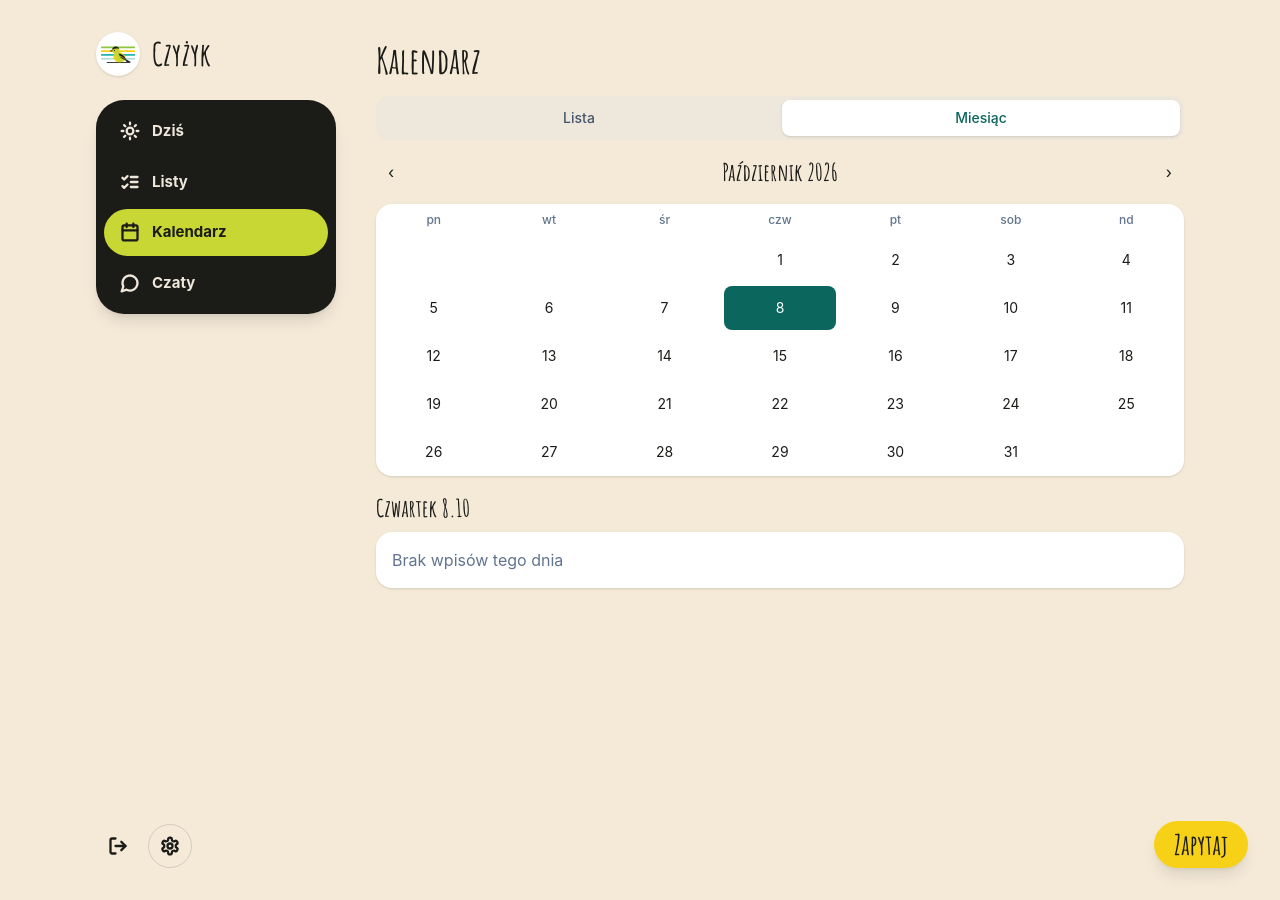
Test: Zapytaj › w widoku miesiąca pyta o ten miesiąc i pokazuje odpowiedź
Click the button "Zapytaj".
click(1201, 844)  # box [1154,821,1248,868]
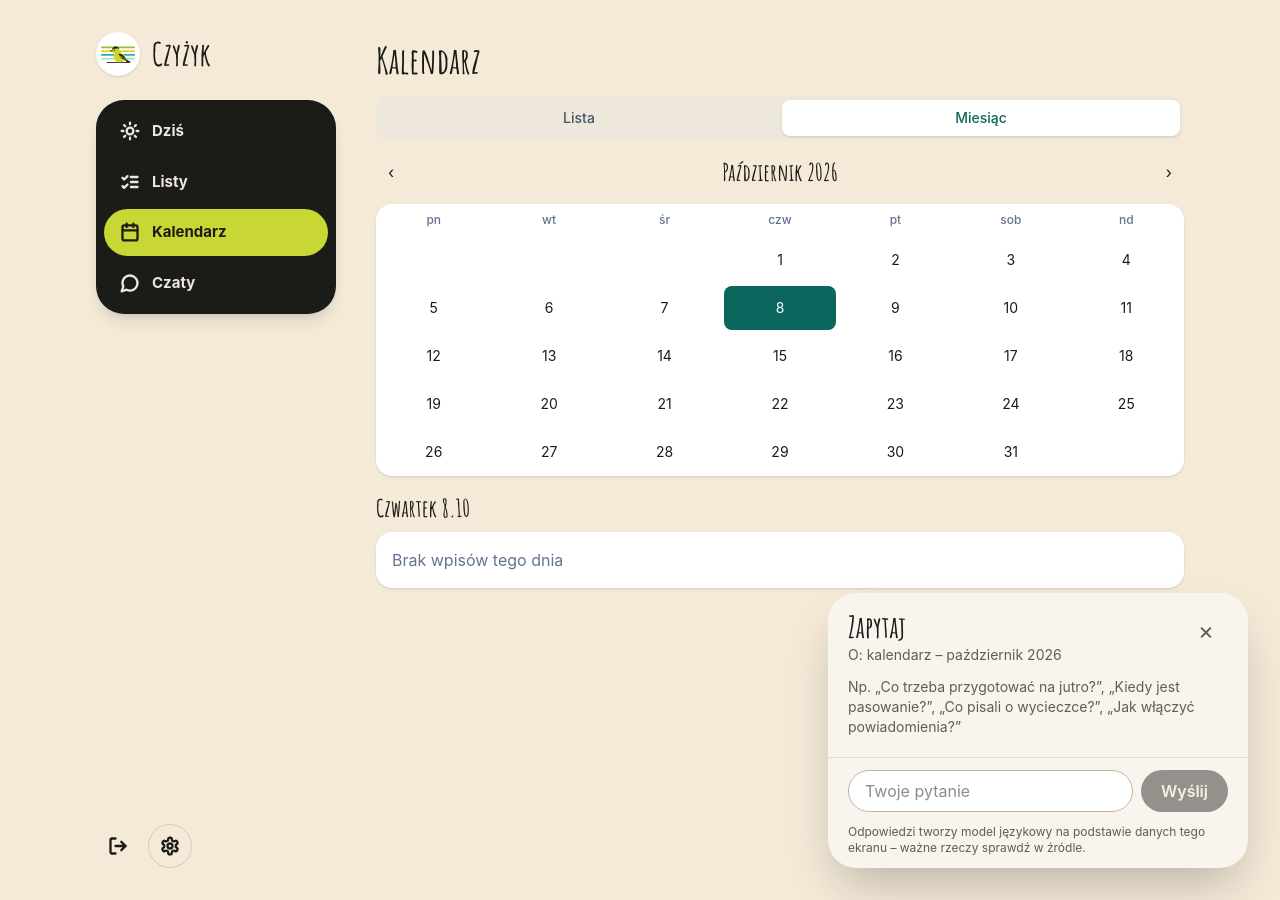
Now the dialog named "Zapytaj asystenta" shows "O: kalendarz – październik 2026", box [828,593,1248,868]
Type "kiedy jest pasowanie?" into the field labelled "Twoje pytanie".
click(990, 791); type("kiedy jest pasowanie?")  # box [848,770,1133,812]
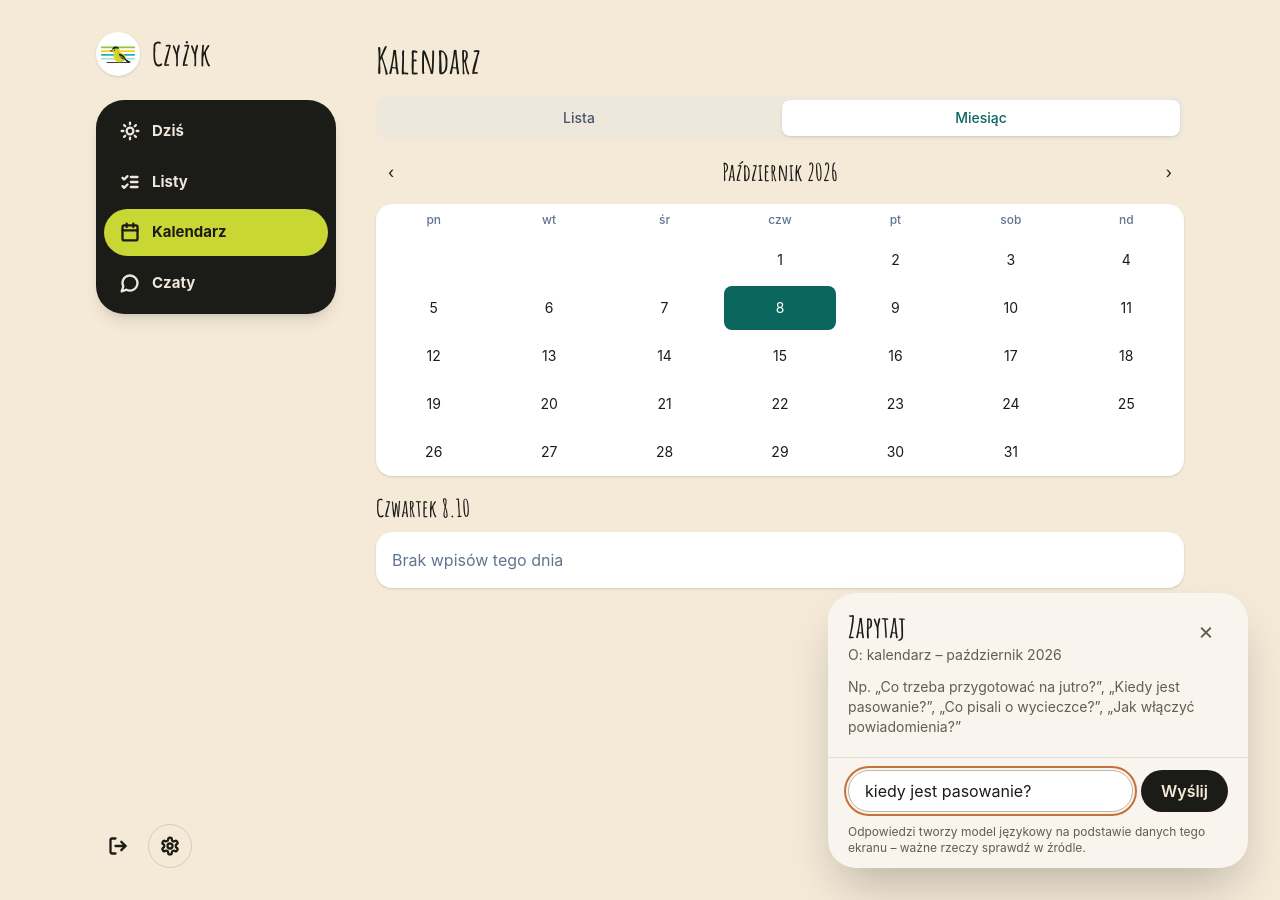
Click the button "Wyślij".
click(1184, 791)  # box [1141,770,1228,812]
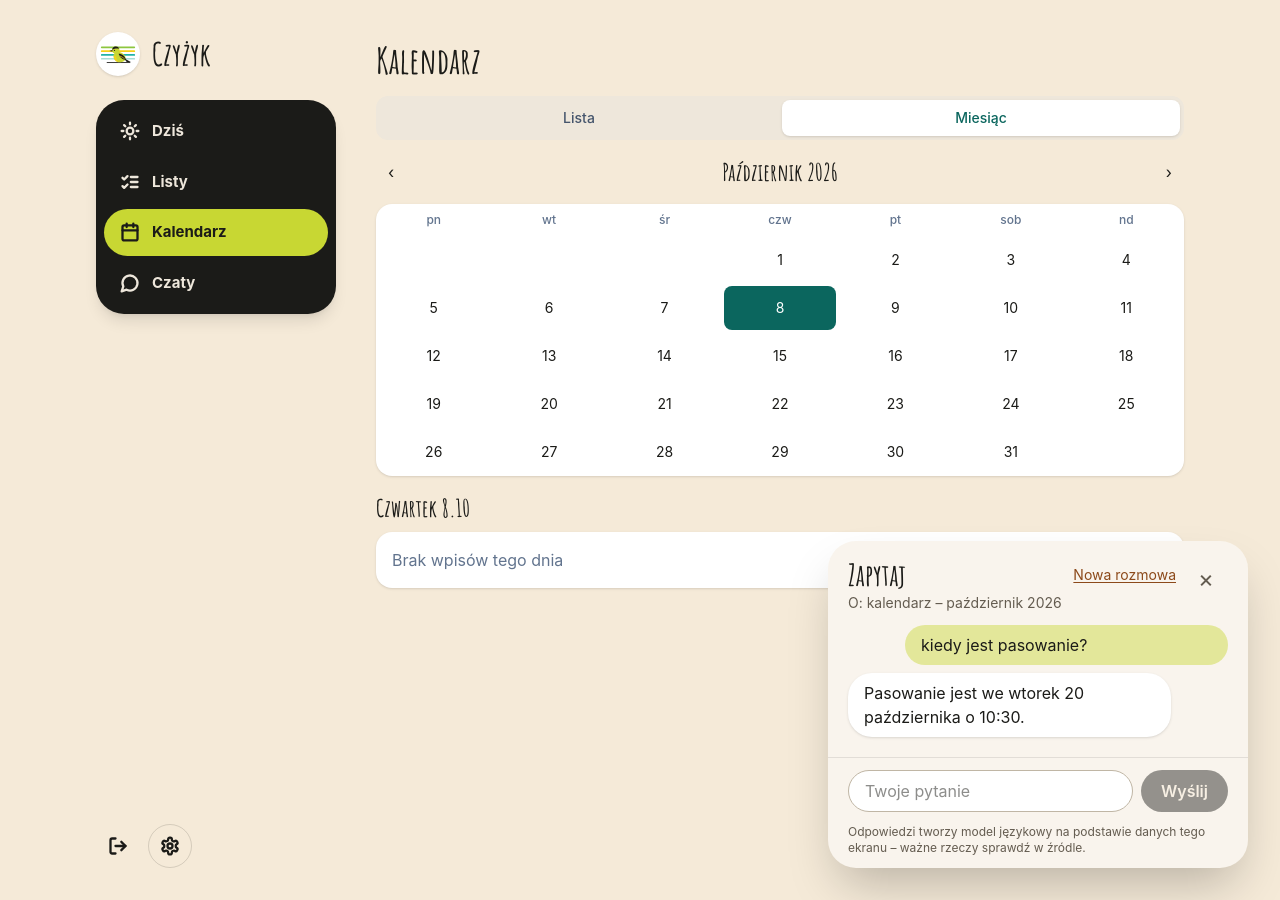
Now the list item "Pasowanie jest we wtorek 20 października o 10:30." is shown, box [848,673,1171,737]
